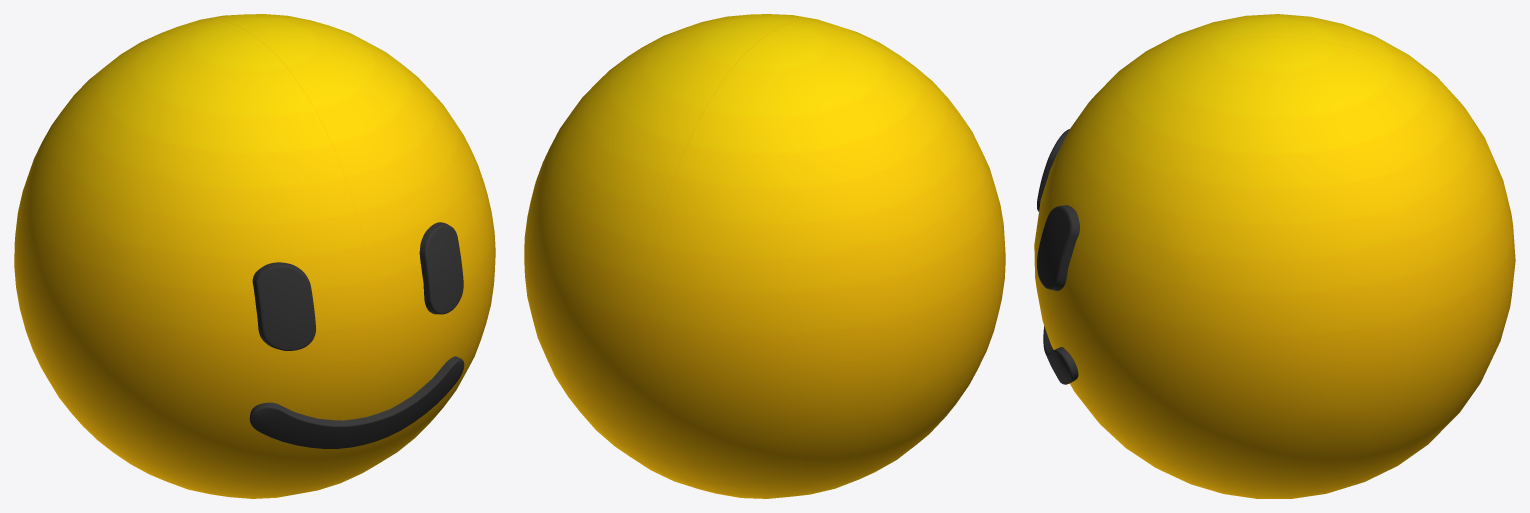
The model's file is Smiling Face.fbx.
The picture shows the model from 3 angles, left to right: view 1: azimuth 30°, elevation 25°; view 2: azimuth 150°, elevation 25°; view 3: azimuth 270°, elevation 25°; orthographic projection.
Parts seen in each view (by area): view 1: node_id5; view 2: node_id5; view 3: node_id5.
Part boxes in pixels (bbox=[...]): node_id5: bbox=[14, 14, 495, 498]; node_id5: bbox=[524, 14, 1005, 498]; node_id5: bbox=[1034, 14, 1515, 498].
Size of the model in its own units: 0.5069 by 0.512 by 0.507.
Materials: 1 (1 with a texture image).
